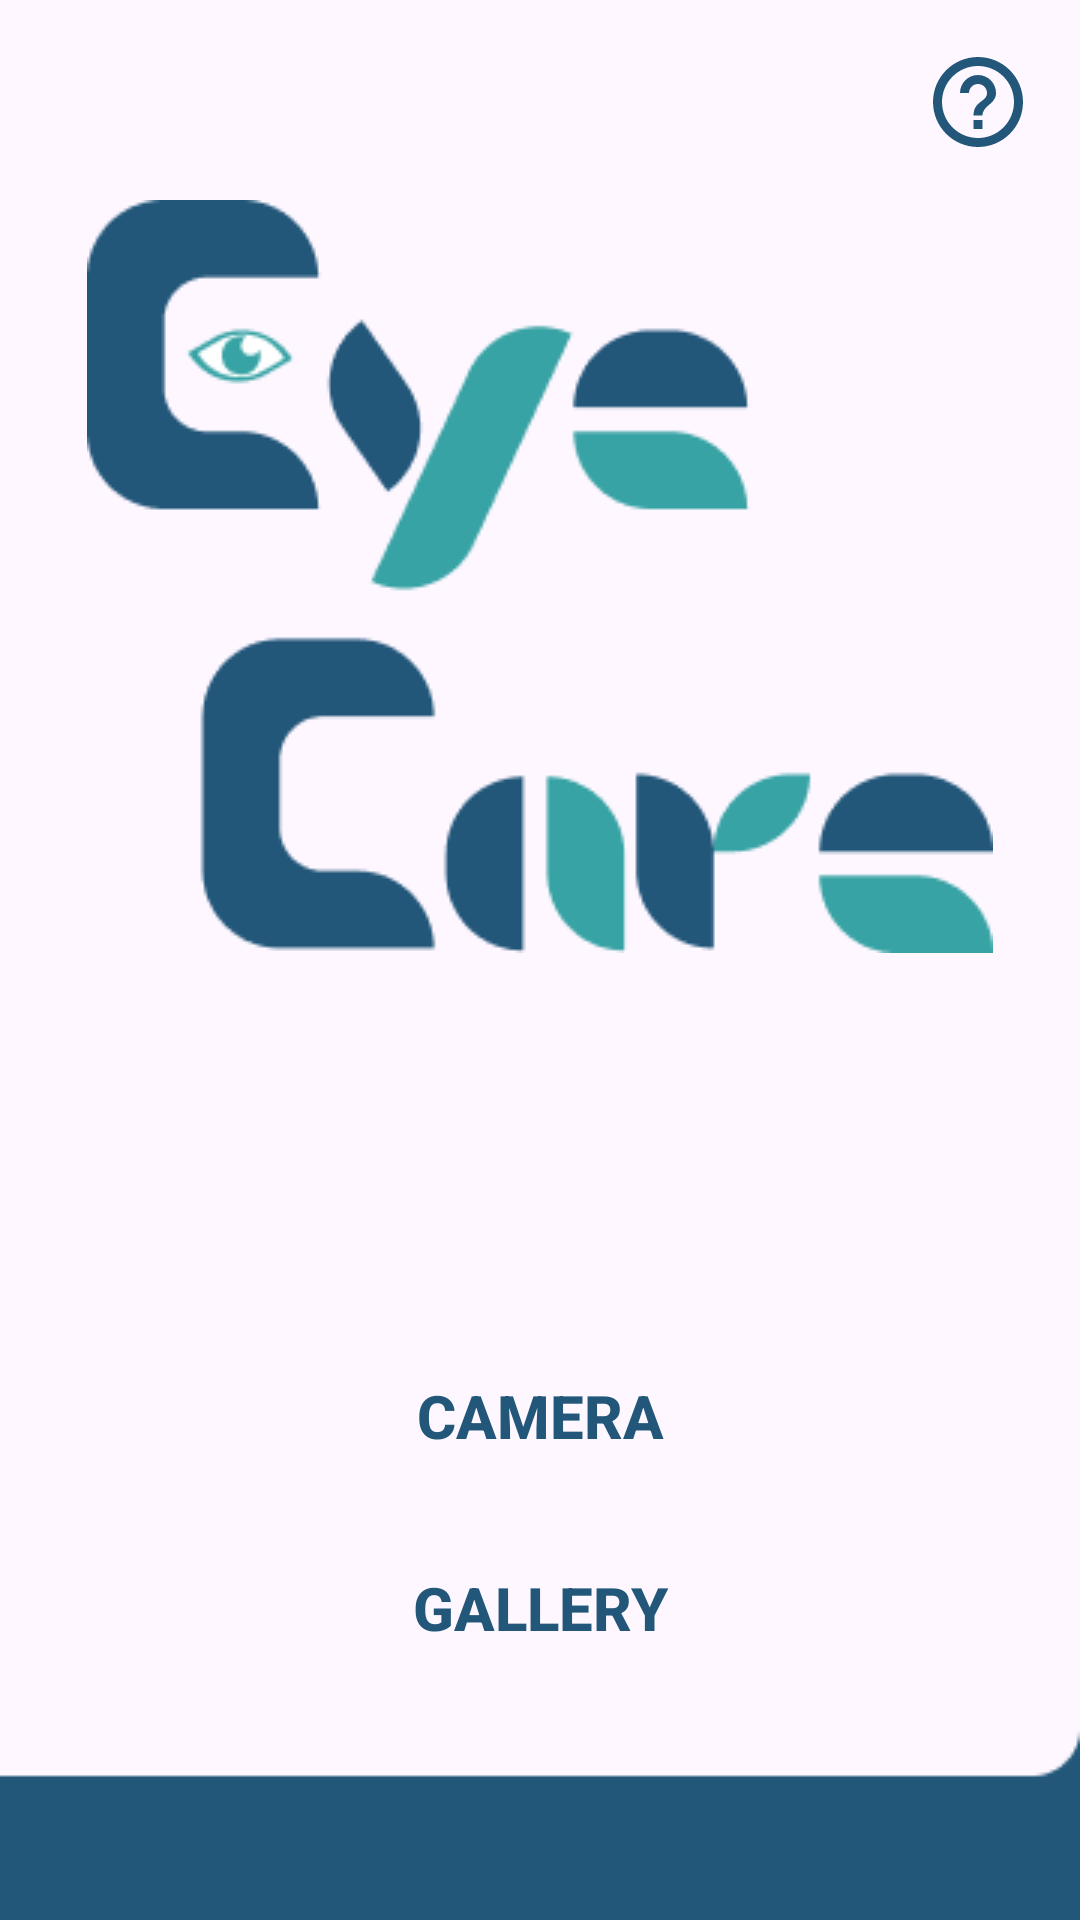

Point at icon controls on the screen. Image size 1080 × 1920, points as (x=x, y=y).
help: (x=978, y=102)
